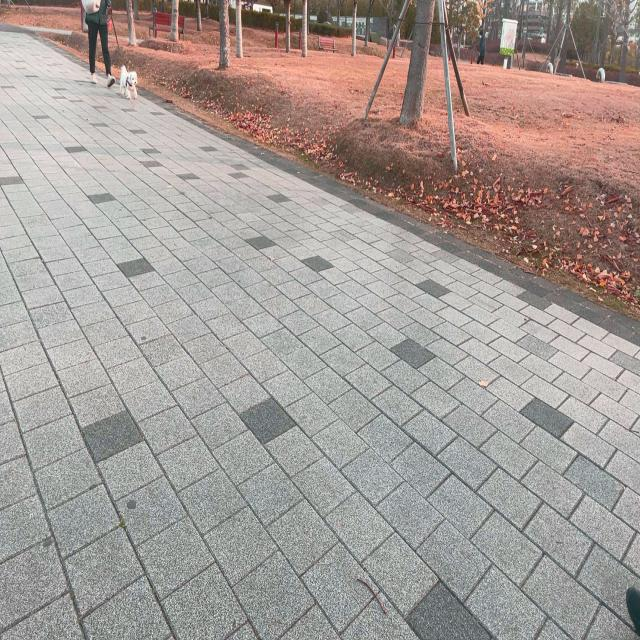Leashed_Dog: (101, 0, 138, 100)
